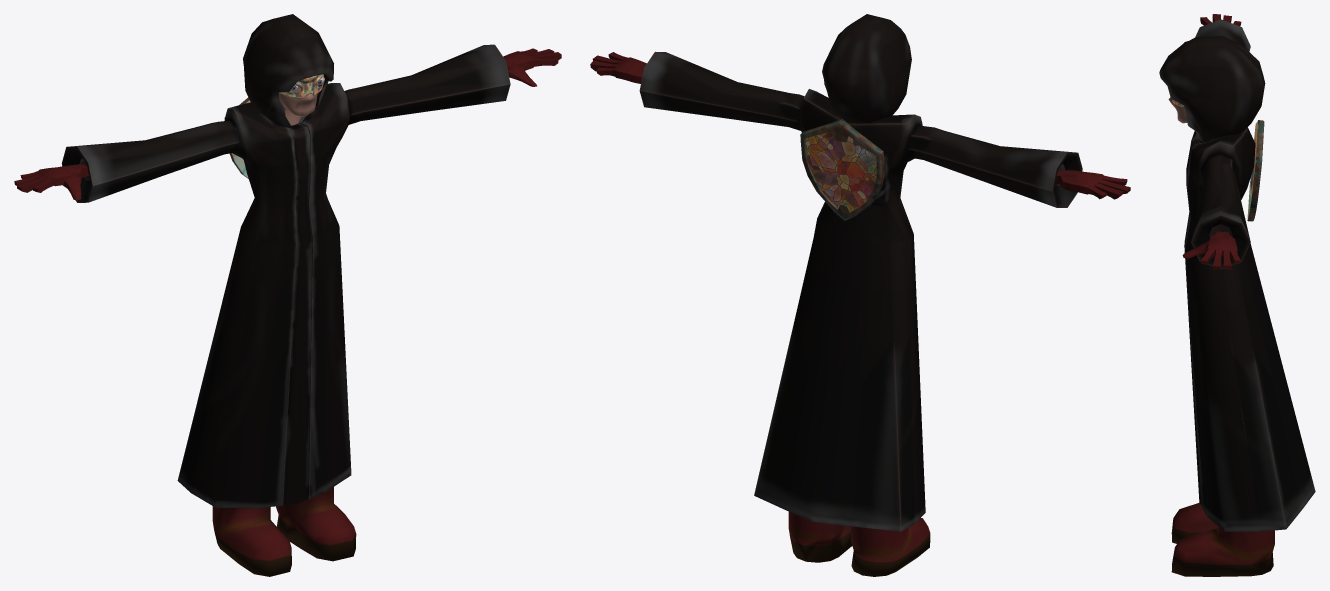
The model's file is CH_Rapinyairet_Base.fbx.
The picture shows the model from 3 angles, left to right: view 1: azimuth 30°, elevation 25°; view 2: azimuth 150°, elevation 25°; view 3: azimuth 270°, elevation 25°; orthographic projection. The views are drawn at different scales.
Visible parts, largest first — view 1: CH_Rapinyairet; view 2: CH_Rapinyairet; view 3: CH_Rapinyairet.
Boxes of the visible parts, x1=… form: CH_Rapinyairet: x1=14, y1=14, x2=561, y2=576; CH_Rapinyairet: x1=590, y1=14, x2=1130, y2=576; CH_Rapinyairet: x1=1159, y1=14, x2=1315, y2=576.
Size of the model in its own units: 1.58 by 1.48 by 0.4094.
